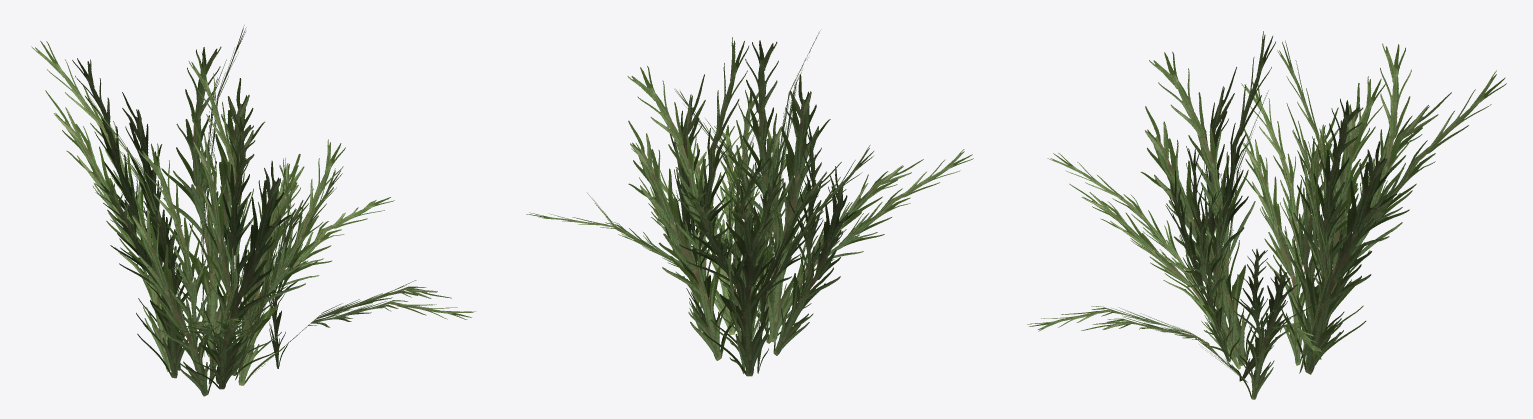
The model's file is rosemary.glb.
3 renders of one model, left to right at view 1: azimuth 30°, elevation 25°; view 2: azimuth 150°, elevation 25°; view 3: azimuth 270°, elevation 25°, orthographic. The views are drawn at different scales.
Visible parts, largest first — view 1: Rosemary; view 2: Rosemary; view 3: Rosemary.
Boxes of the visible parts, x1,y1,x2,y2 form: Rosemary: (31, 25, 476, 396); Rosemary: (526, 30, 973, 376); Rosemary: (1027, 31, 1506, 399).
Size of the model in its own units: 0.3186 by 0.3032 by 0.3909.
Materials: 1 (1 with a texture image).
